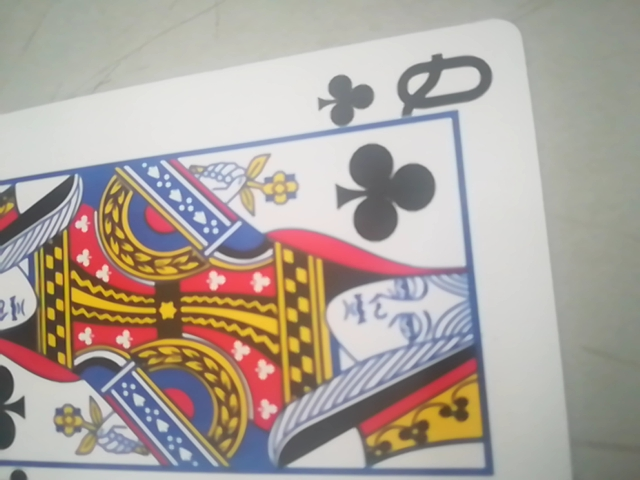mh q: (2, 33, 591, 480)
